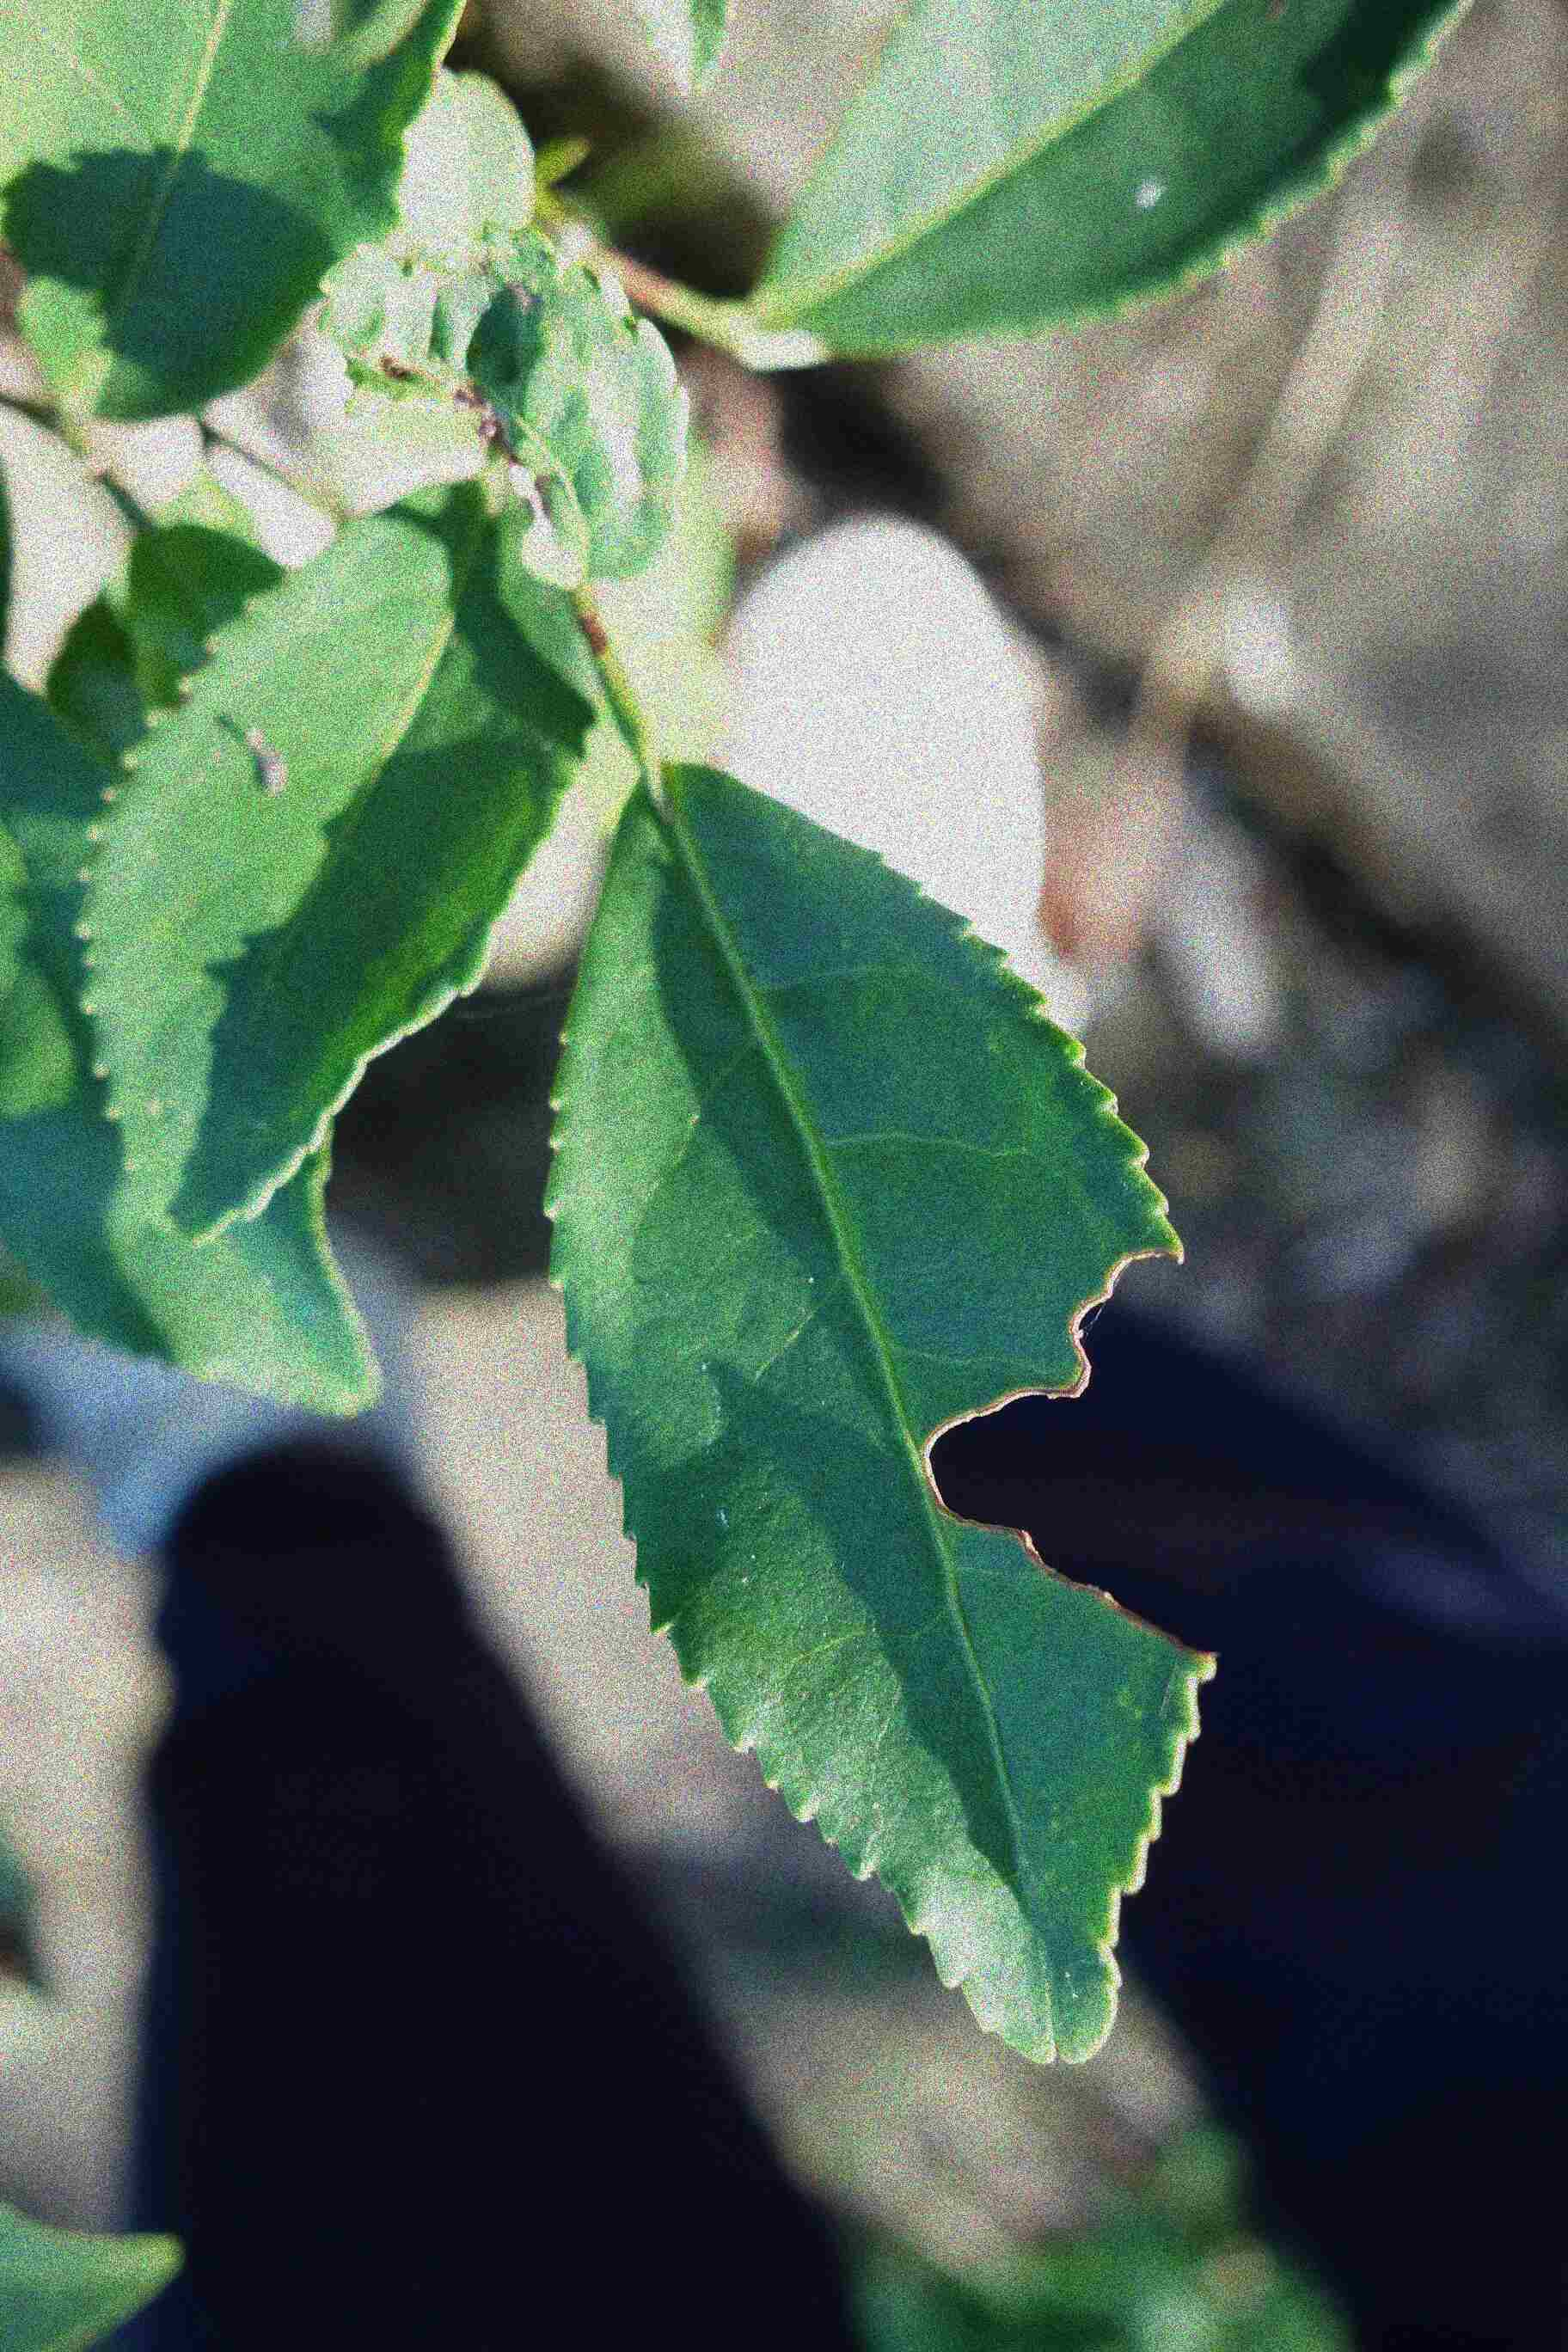chihuo_high: (317, 226, 686, 591)
chihuo_low: (534, 766, 1230, 2060)
